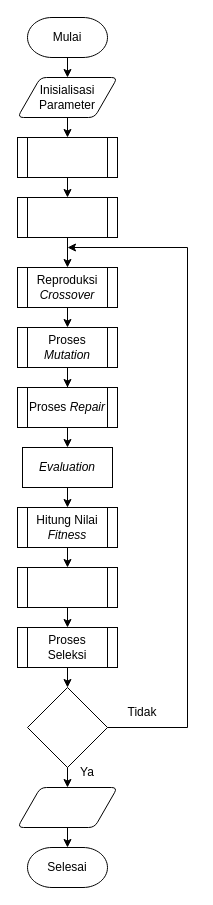
Some shapes in this 213 by 905 pixel diagram are drawn without their labels. Here are the shapes that lost their labels. From the top down, the centre of each, then its label:
At (67,157): "Reprsentasi Kromosom".
At (67,217): "Generate Population".
At (67,587): "Skema Adaptif".
At (67,727): "Kondisi Berhenti?".
At (67,807): "Hasil".
